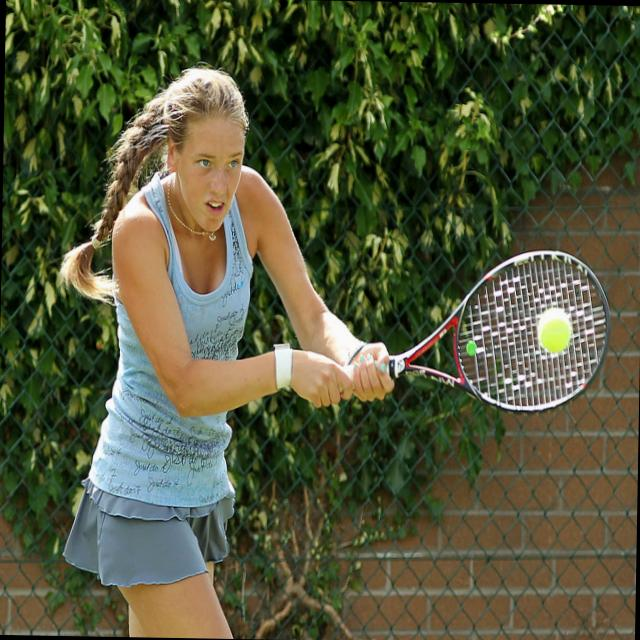Tennis Ball: (534, 303, 570, 349)
